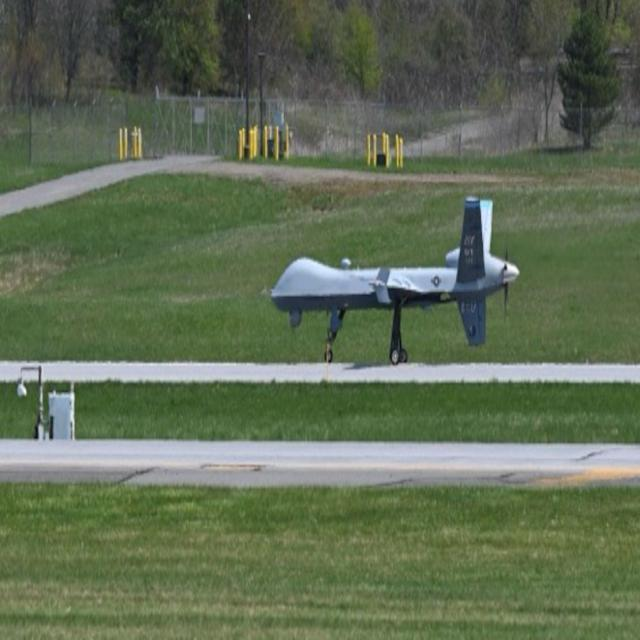iha: (254, 192, 515, 376)
